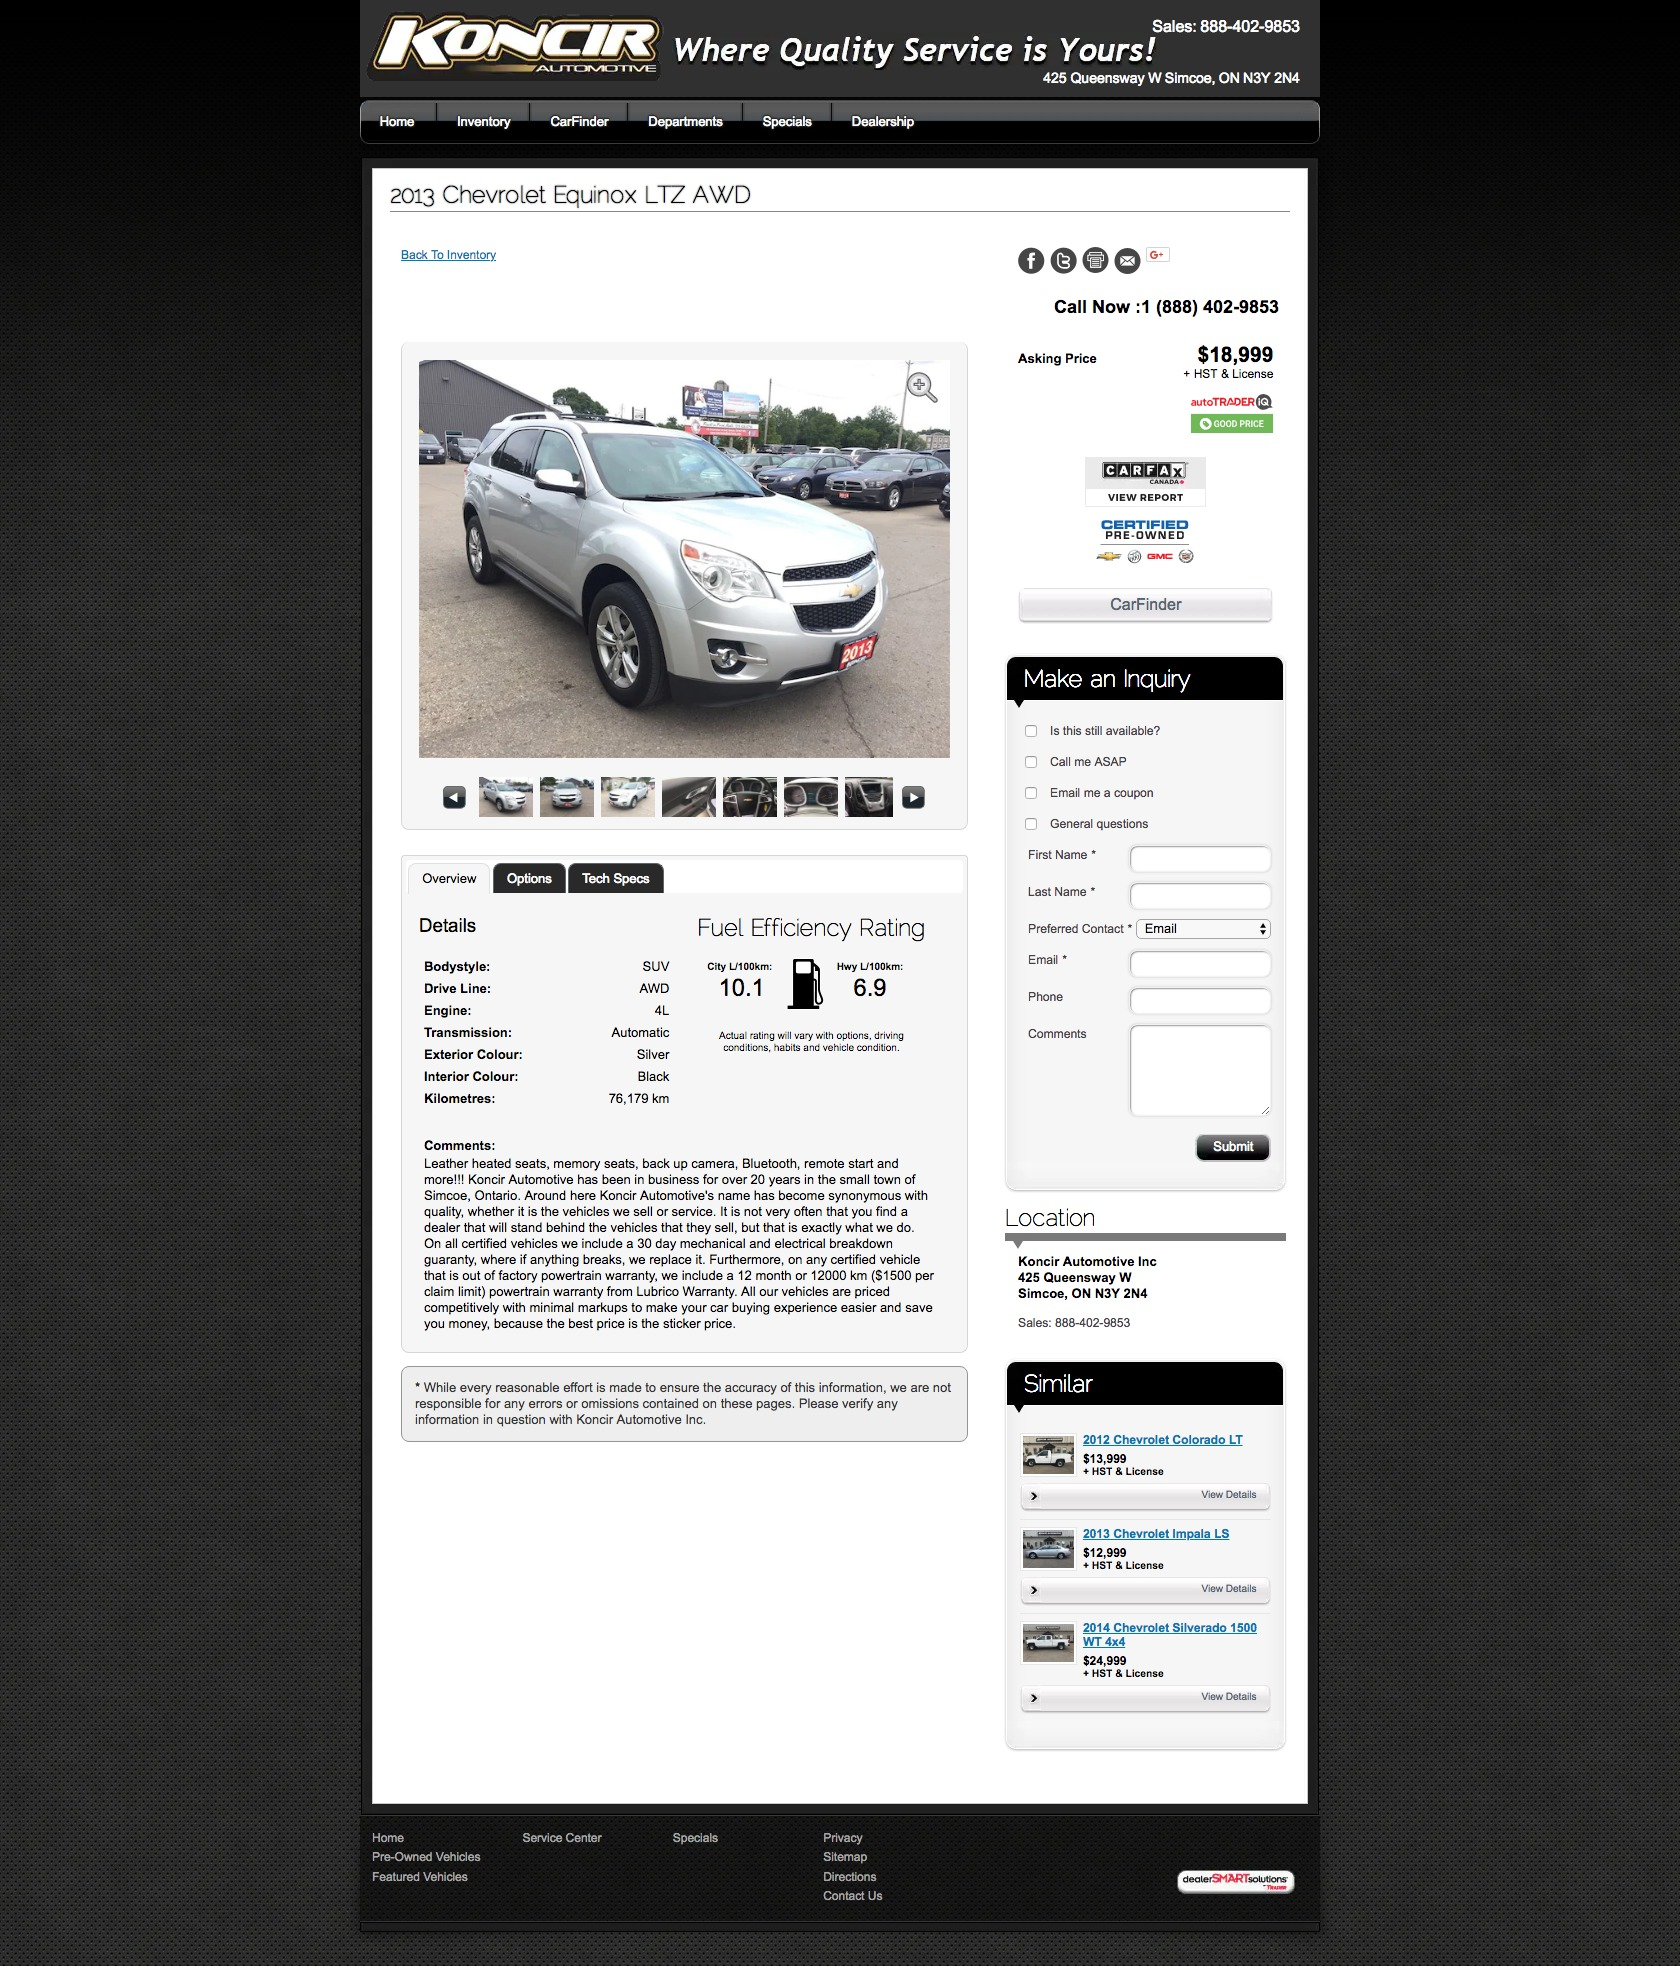car: (910, 791, 918, 805)
